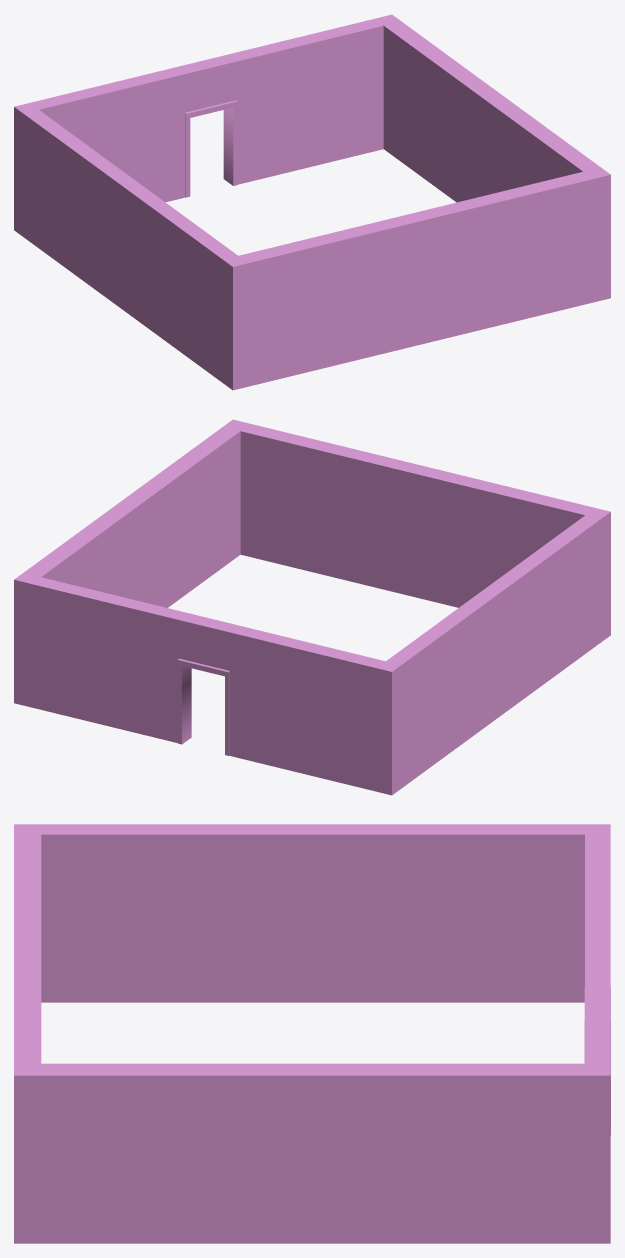
Rendered from ParedeCentralLow.fbx.
The picture shows the model from 3 angles, top to bottom: view 1: azimuth 30°, elevation 25°; view 2: azimuth 150°, elevation 25°; view 3: azimuth 270°, elevation 25°; orthographic projection. The views are drawn at different scales.
Parts seen in each view (by area): view 1: Parede.010; view 2: Parede.010; view 3: Parede.010.
Boxes of the visible parts, <box> form: Parede.010: <box>14,14,610,390</box>; Parede.010: <box>14,419,610,795</box>; Parede.010: <box>14,824,610,1243</box>.
Bounding box in the file's own units: 1412 × 441 × 1417.
